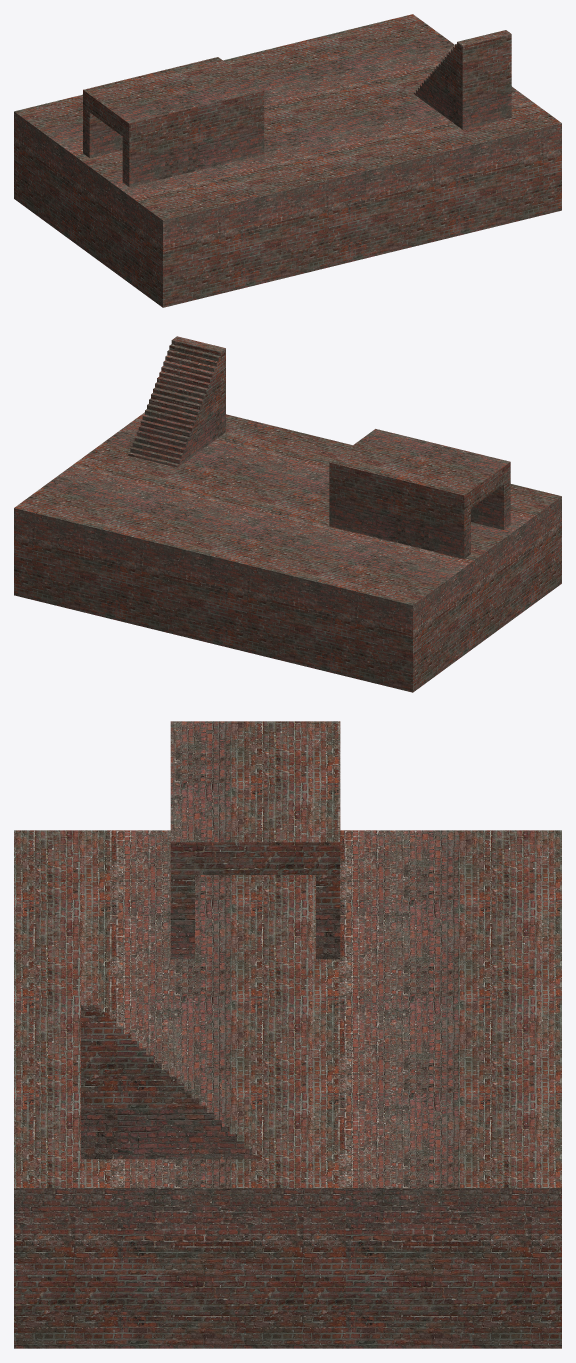
The picture shows the model from 3 angles, top to bottom: view 1: azimuth 30°, elevation 25°; view 2: azimuth 150°, elevation 25°; view 3: azimuth 270°, elevation 25°; orthographic projection. The views are drawn at different scales.
Parts seen in each view (by area): view 1: Plane; view 2: Plane; view 3: Plane.
Boxes of the visible parts, x1,y1,x2,y2 form: Plane: (14,14,561,307); Plane: (14,336,561,692); Plane: (14,721,561,1348).
Size of what is drawn, in the model's own units: 18.55 by 7.61 by 12.01.
1 material, 1 textured.
